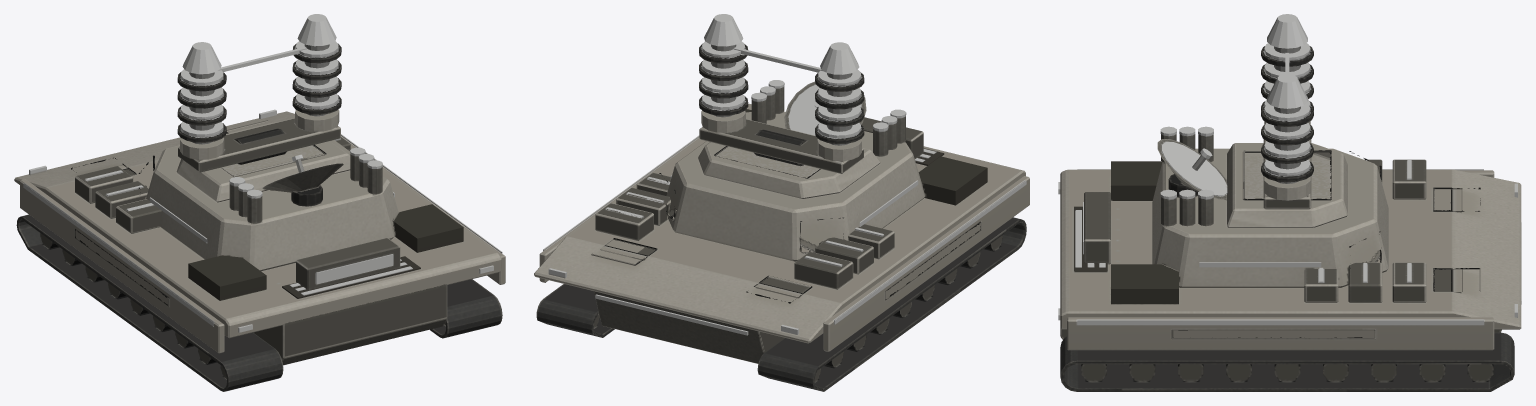
Rendered from ord_thunderer.fbx.
3 renders of one model, left to right at view 1: azimuth 30°, elevation 25°; view 2: azimuth 150°, elevation 25°; view 3: azimuth 270°, elevation 25°, orthographic. The views are drawn at different scales.
Parts seen in each view (by area): view 1: base_bar, turret_bar, trackL_bar, barrel_bar, barrel_glow_weapon_bar, base_glow_running_bar, trackR_bar, turret_glow_running_bar; view 2: base_bar, turret_bar, trackL_bar, barrel_bar, barrel_glow_weapon_bar, base_glow_running_bar, trackR_bar, turret_glow_weapon_bar, turret_glow_running_bar; view 3: base_bar, turret_bar, trackR_bar, barrel_glow_weapon_bar, barrel_bar, base_glow_running_bar, turret_glow_weapon_bar, turret_glow_running_bar.
Boxes of the visible parts, left/top/right/bottom form: base_bar: left=14, top=111, right=505, bottom=365; turret_bar: left=138, top=122, right=398, bottom=271; trackL_bar: left=16, top=214, right=283, bottom=391; barrel_bar: left=177, top=43, right=341, bottom=172; barrel_glow_weapon_bar: left=180, top=14, right=338, bottom=137; base_glow_running_bar: left=23, top=134, right=502, bottom=332; trackR_bar: left=430, top=279, right=502, bottom=338; turret_glow_running_bar: left=149, top=147, right=394, bottom=243; base_bar: left=534, top=103, right=1029, bottom=363; turret_bar: left=659, top=81, right=924, bottom=261; trackL_bar: left=757, top=217, right=1026, bottom=391; barrel_bar: left=699, top=43, right=864, bottom=173; barrel_glow_weapon_bar: left=702, top=14, right=861, bottom=138; base_glow_running_bar: left=543, top=135, right=1026, bottom=335; trackR_bar: left=536, top=284, right=614, bottom=337; turret_glow_weapon_bar: left=788, top=85, right=861, bottom=135; turret_glow_running_bar: left=670, top=80, right=918, bottom=226; base_bar: left=1060, top=159, right=1521, bottom=350; turret_bar: left=1152, top=134, right=1388, bottom=287; trackR_bar: left=1060, top=332, right=1514, bottom=391; barrel_glow_weapon_bar: left=1264, top=14, right=1310, bottom=176; barrel_bar: left=1261, top=46, right=1313, bottom=209; base_glow_running_bar: left=1058, top=160, right=1521, bottom=324; turret_glow_weapon_bar: left=1161, top=141, right=1227, bottom=195; turret_glow_running_bar: left=1160, top=126, right=1321, bottom=267.
Bounding box in the file's own units: 1056 × 1085 × 1367.
2 materials, 2 textured.
